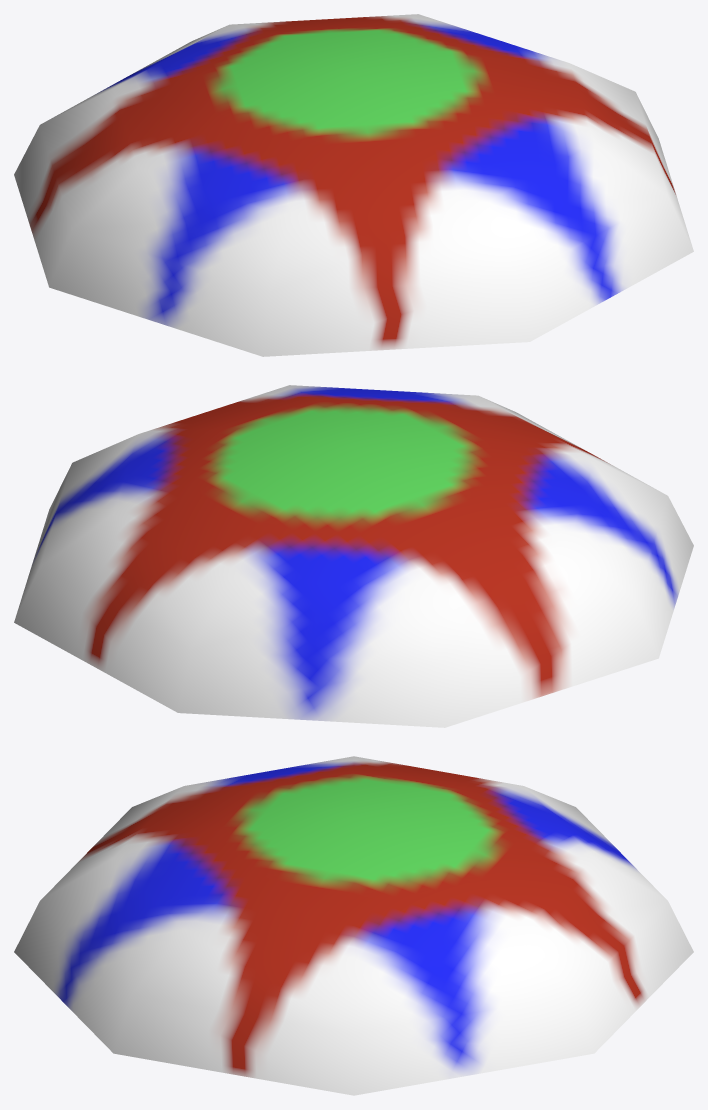
File: bumper.obj
3 renders of one model, top to bottom at view 1: azimuth 30°, elevation 25°; view 2: azimuth 150°, elevation 25°; view 3: azimuth 270°, elevation 25°, orthographic. The views are drawn at different scales.
Parts seen in each view (by area): view 1: Sphere; view 2: Sphere; view 3: Sphere.
Boxes of the visible parts, x1,y1,x2,y2 form: Sphere: (14,14,693,356); Sphere: (14,385,693,727); Sphere: (14,756,693,1095).
Size of the model in its own units: 1.46 by 0.3159 by 1.46.
Materials: 1 (1 with a texture image).
